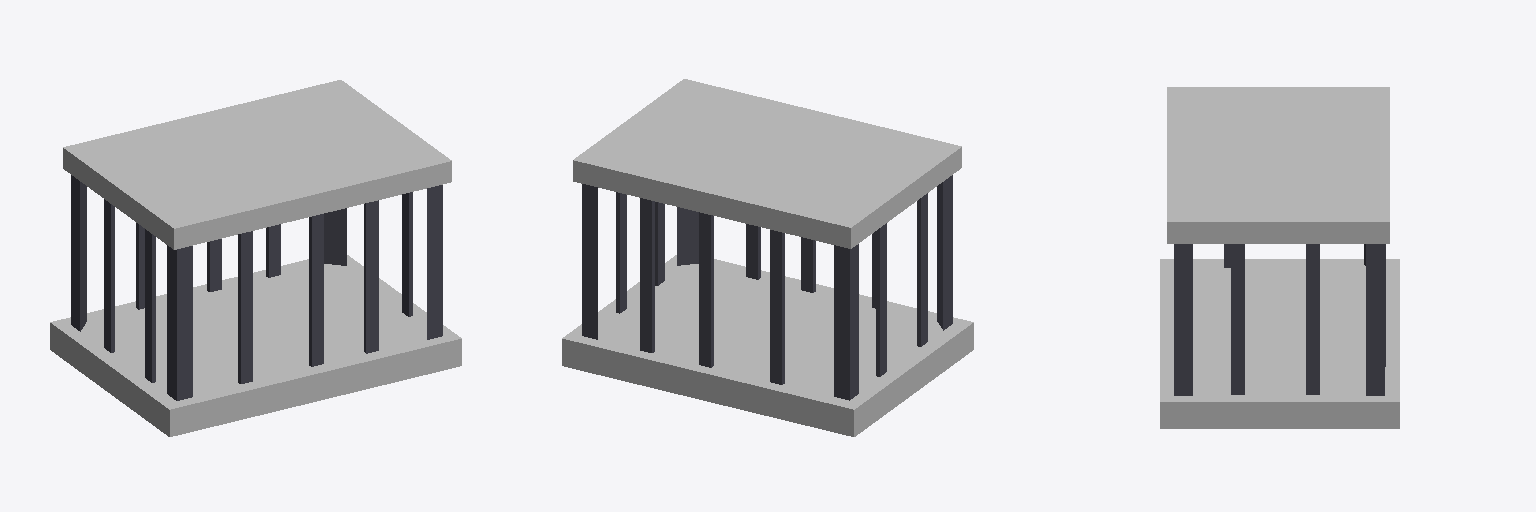
3 renders of one model, left to right at view 1: azimuth 30°, elevation 25°; view 2: azimuth 150°, elevation 25°; view 3: azimuth 270°, elevation 25°, orthographic.
Parts seen in each view (by area): view 1: model41313-node; view 2: model41313-node; view 3: model41313-node.
Boxes of the visible parts, x1=… form: model41313-node: x1=50, y1=80, x2=461, y2=436; model41313-node: x1=562, y1=79, x2=973, y2=436; model41313-node: x1=1160, y1=87, x2=1399, y2=428.
Size of the model in its own units: 3.6 by 2.4 by 2.55.
5 materials, 2 textured.